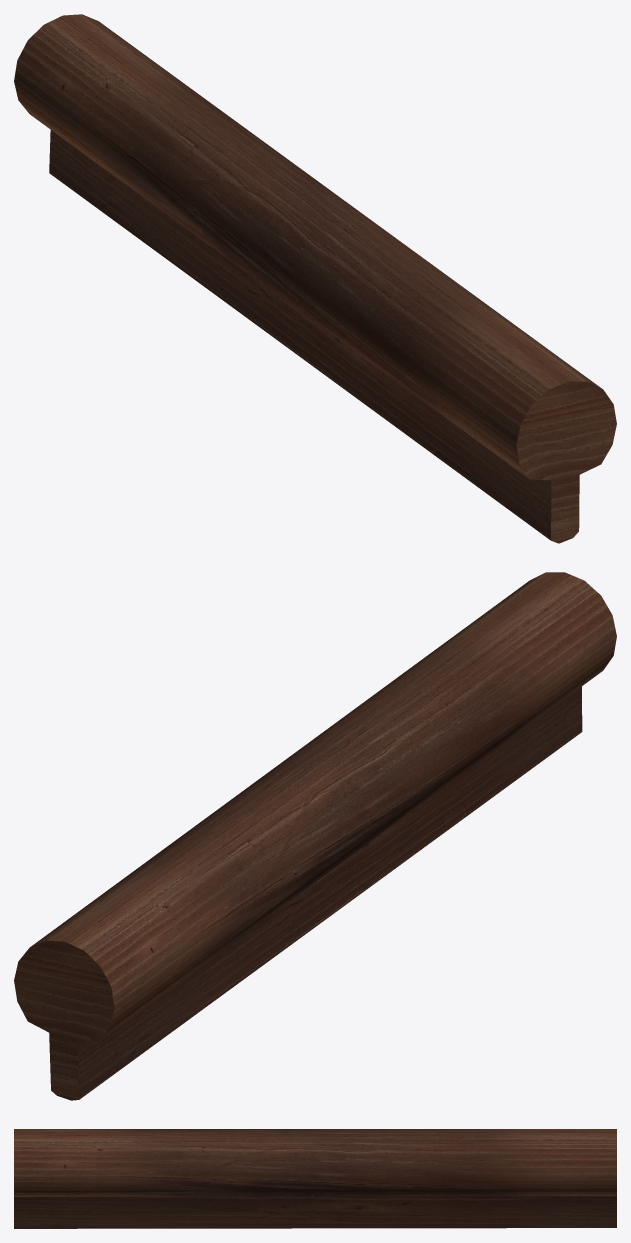
File: SM_R_Dancheong_31.fbx
3 renders of one model, top to bottom at view 1: azimuth 30°, elevation 25°; view 2: azimuth 150°, elevation 25°; view 3: azimuth 270°, elevation 25°, orthographic. The views are drawn at different scales.
Parts seen in each view (by area): view 1: SM_R_Dancheong_31; view 2: SM_R_Dancheong_31; view 3: SM_R_Dancheong_31.
Boxes of the visible parts, box(x1,y1,x2,y2) form: SM_R_Dancheong_31: box(14, 14, 616, 543); SM_R_Dancheong_31: box(14, 572, 616, 1100); SM_R_Dancheong_31: box(14, 1129, 616, 1228).
Size of the model in its own units: 36.53 by 314 by 55.18.
1 material, 1 textured.
